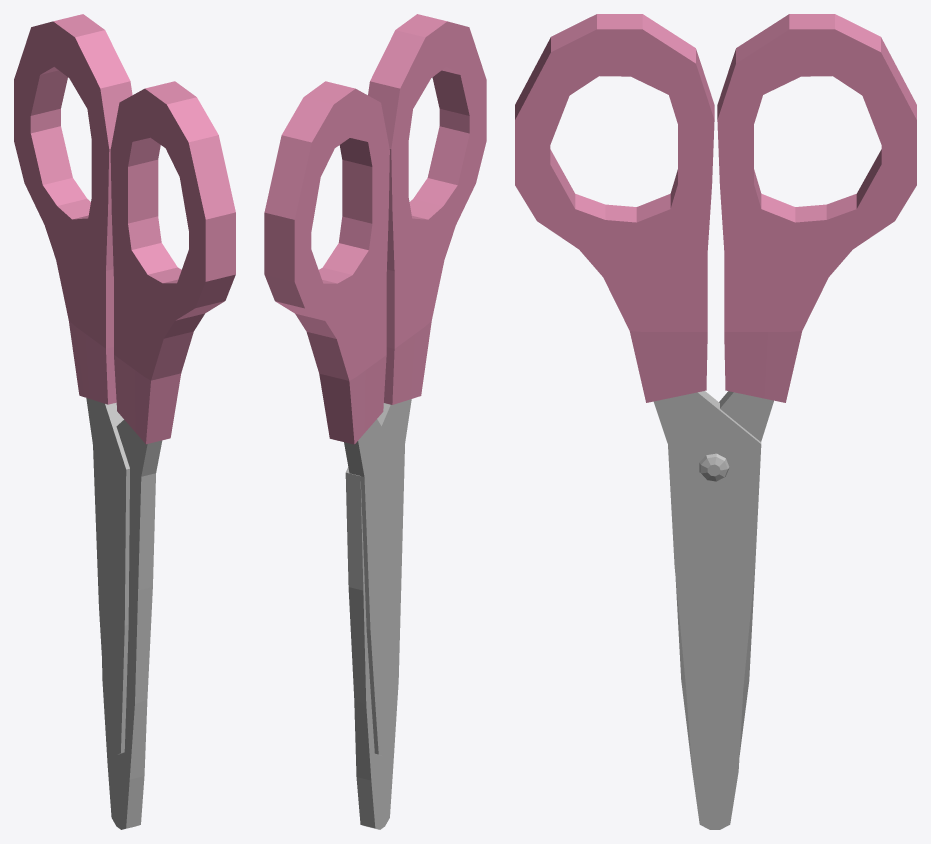
Rendered from scissors.fbx.
The picture shows the model from 3 angles, left to right: view 1: azimuth 30°, elevation 25°; view 2: azimuth 150°, elevation 25°; view 3: azimuth 270°, elevation 25°; orthographic projection. The views are drawn at different scales.
Visible parts, largest first — view 1: Scissors; view 2: Scissors; view 3: Scissors.
Part boxes in pixels (<box>): Scissors: <box>14,14,235,829</box>; Scissors: <box>264,14,486,829</box>; Scissors: <box>515,14,916,829</box>.
Bounding box in the file's own units: 2.8 × 68.03 × 30.82.
